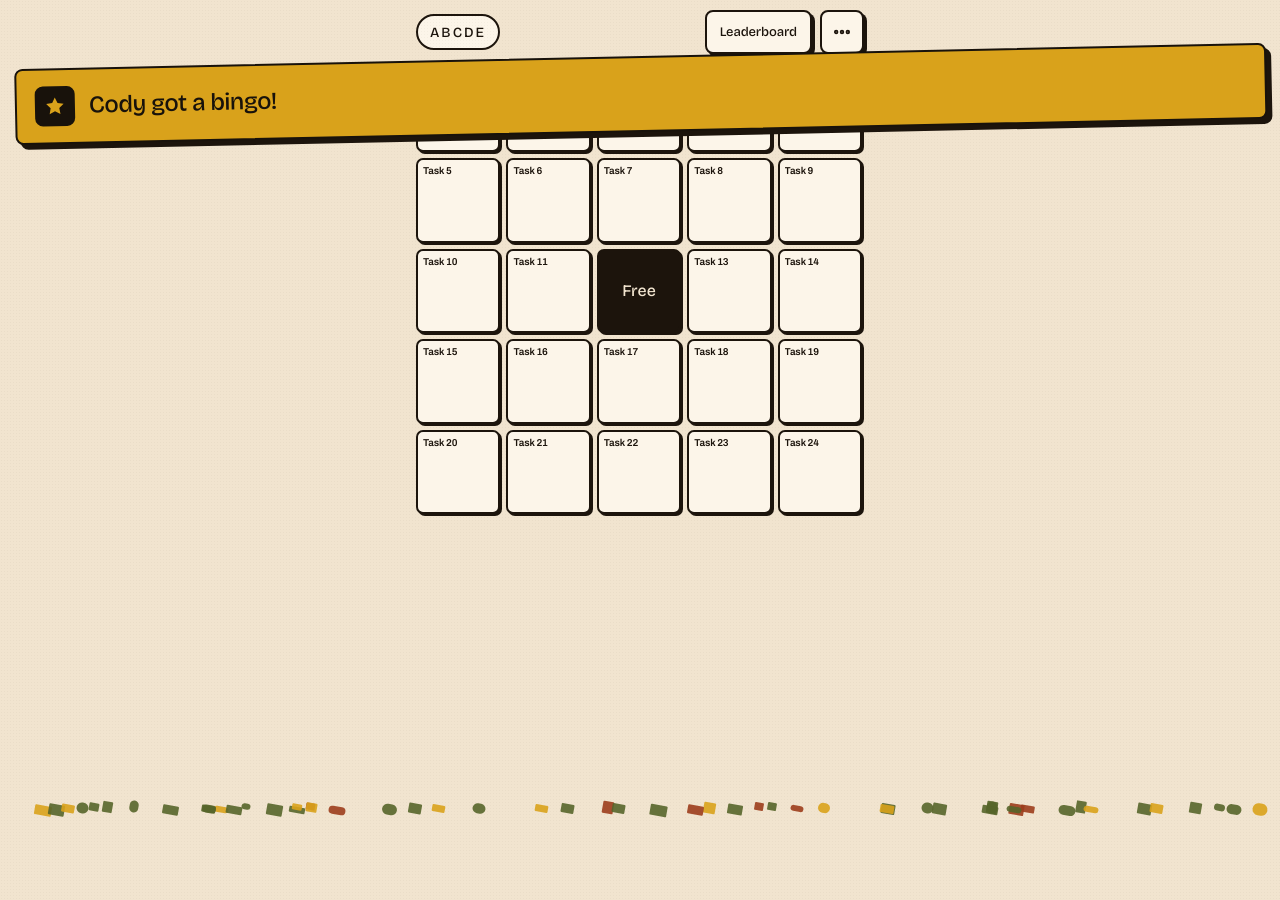
Scenario: PlayScreen › shows a banner for a new bingo from another player, tap dismisses
The width and height of the screenshot is (1280, 900).
Click the button "Cody got a bingo!" at (55, 106), box [14, 43, 1267, 145]
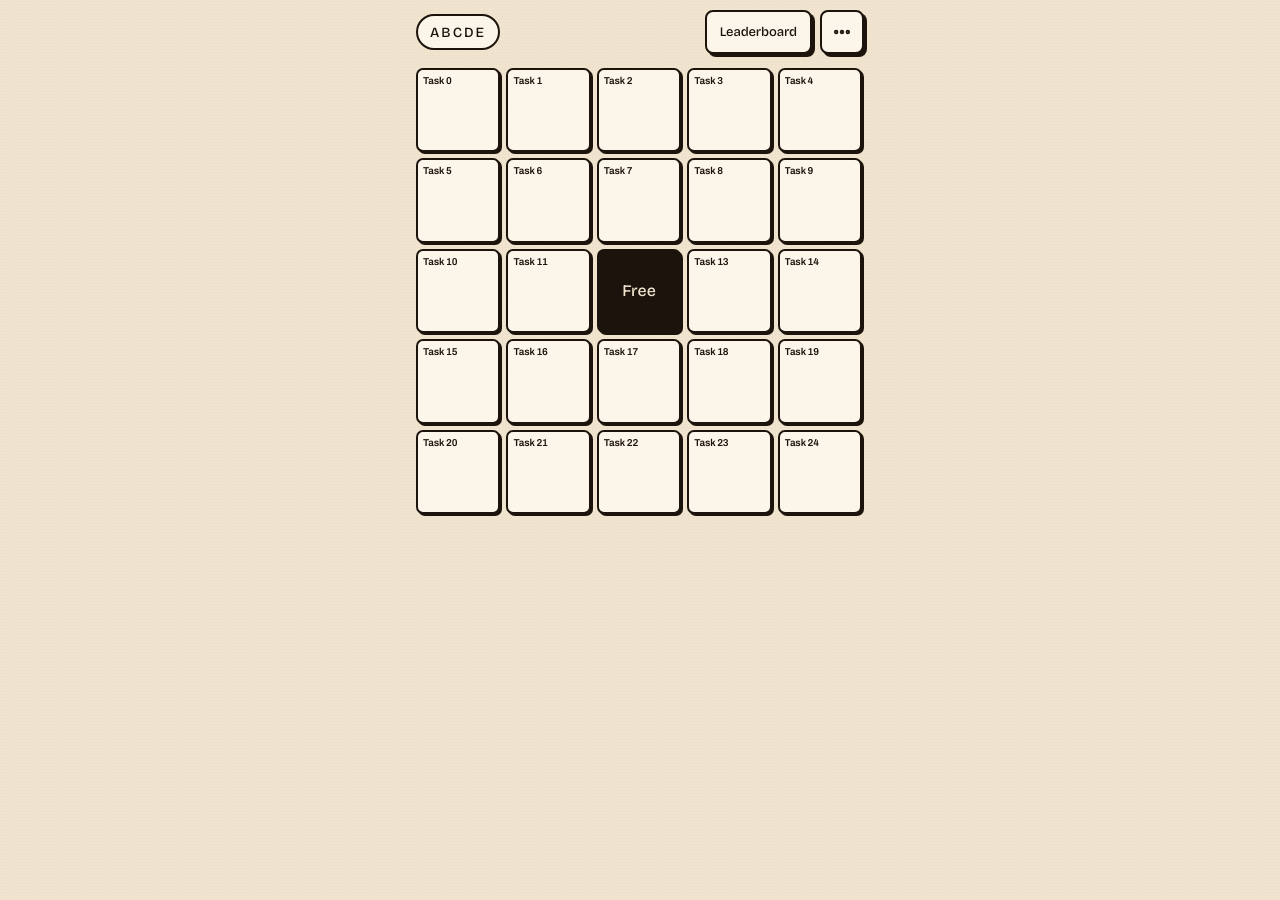
Check: the element with test id "bingo-banner" is gone
